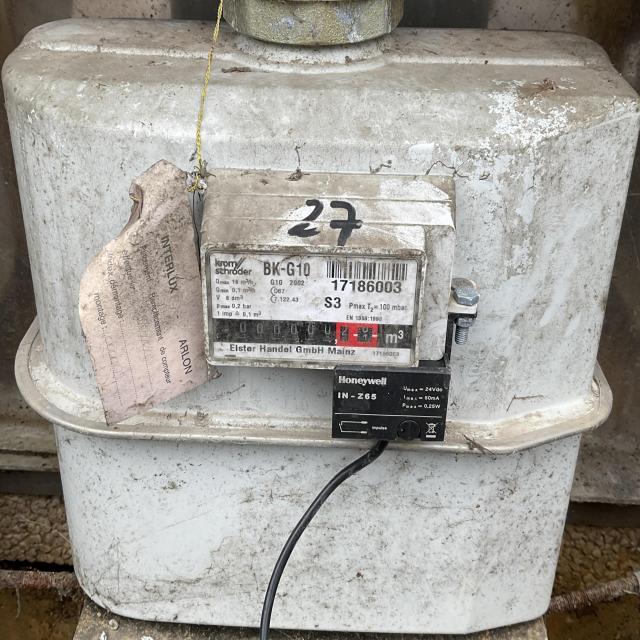gaz_meter: (209, 249, 417, 358)
indication: (226, 317, 380, 349)
